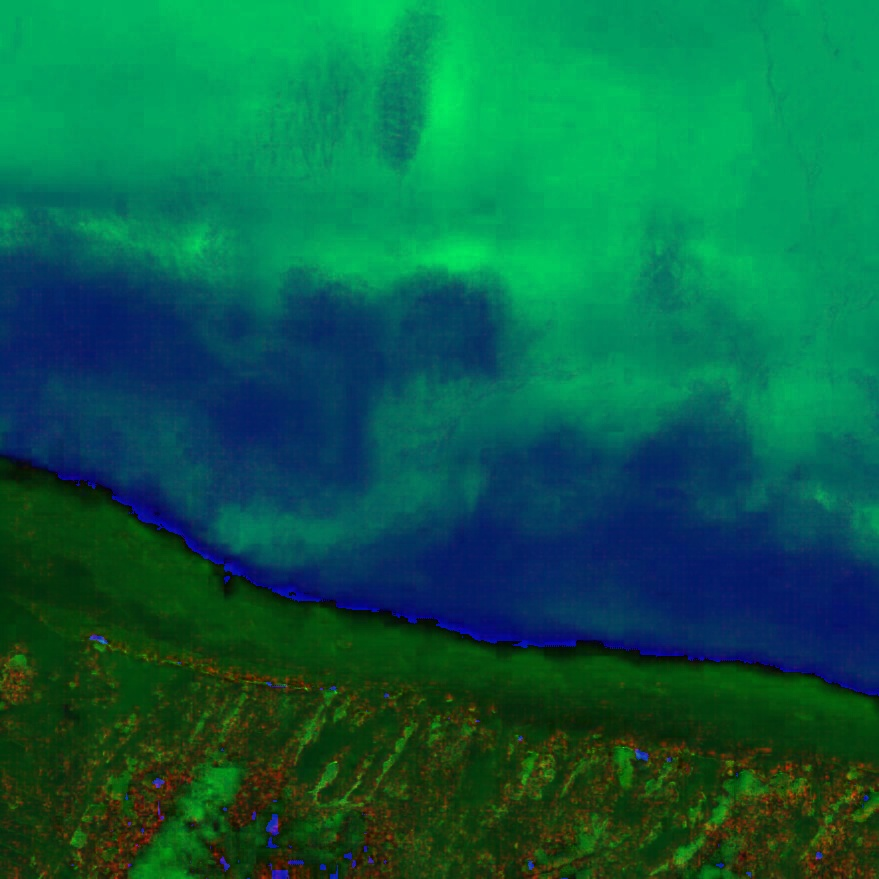rip_current: (221, 298, 594, 566)
